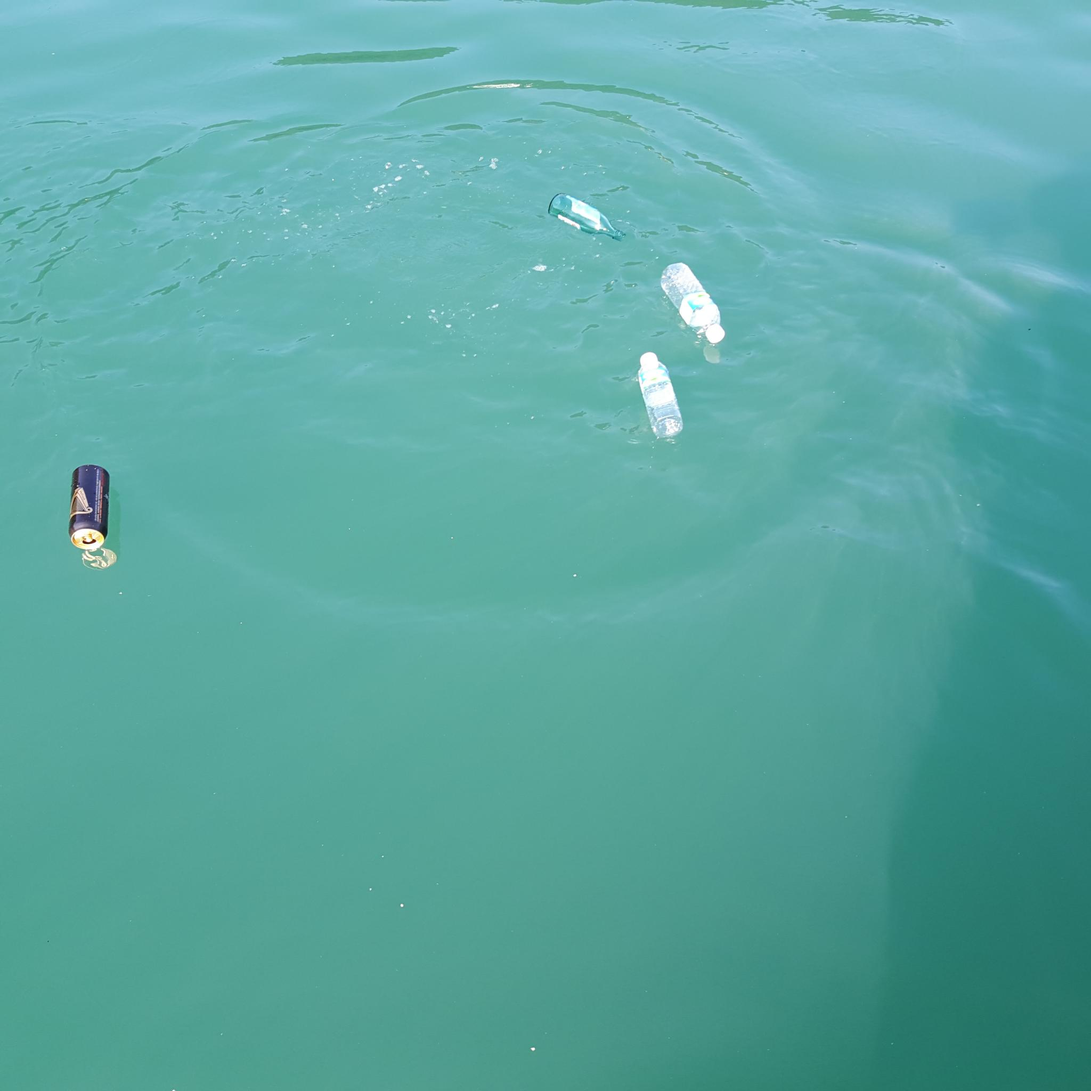sampah_terapung: (661, 263, 726, 344), (548, 193, 626, 243), (639, 353, 684, 438), (68, 464, 110, 550)
